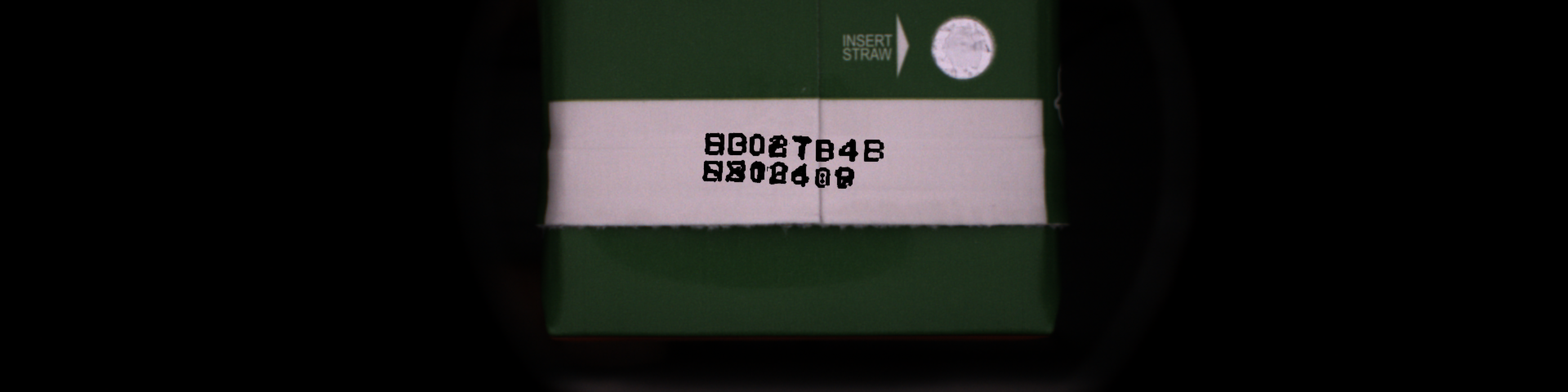date: (862, 137, 887, 165), (837, 135, 861, 164), (702, 130, 726, 158), (724, 157, 748, 185), (832, 164, 856, 192), (699, 157, 724, 183), (790, 133, 814, 160), (790, 135, 813, 163), (790, 159, 812, 188), (767, 132, 789, 160), (725, 158, 747, 186), (767, 159, 789, 187), (703, 130, 725, 157), (814, 137, 836, 164), (726, 130, 747, 157), (768, 133, 788, 161), (701, 158, 722, 184), (840, 136, 858, 165), (815, 137, 835, 163), (748, 131, 766, 159), (835, 164, 853, 192), (727, 130, 746, 156), (813, 164, 832, 190), (749, 158, 767, 185), (769, 159, 787, 186), (749, 132, 765, 159), (793, 164, 809, 191), (750, 159, 765, 186), (815, 166, 830, 189)
